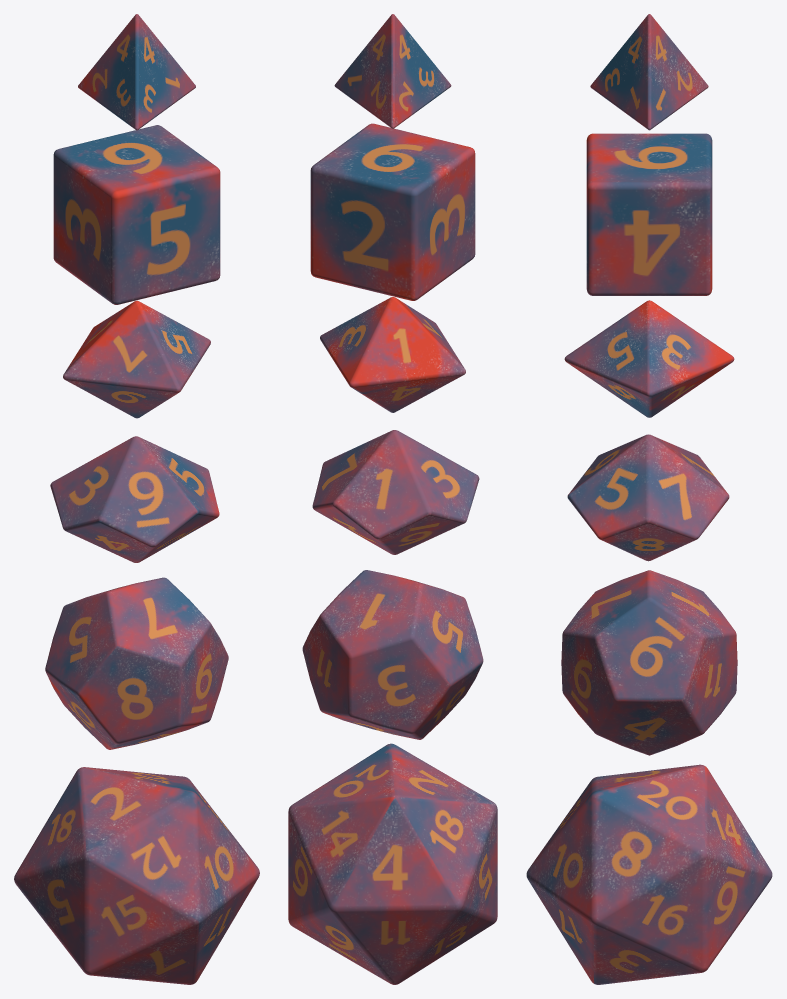
3 views of the same model, side by side, from view 1: azimuth 30°, elevation 25°; view 2: azimuth 150°, elevation 25°; view 3: azimuth 270°, elevation 25° (orthographic).
Parts seen in each view (by area): view 1: d20_geo, d6_geo, d12_geo, d10_geo, d8_geo, d4_geo; view 2: d20_geo, d6_geo, d12_geo, d10_geo, d8_geo, d4_geo; view 3: d20_geo, d12_geo, d6_geo, d10_geo, d8_geo, d4_geo.
Boxes of the visible parts, x1,y1,x2,y2 form: d20_geo: [14, 767, 259, 984]; d6_geo: [53, 125, 220, 304]; d12_geo: [45, 577, 228, 749]; d10_geo: [50, 436, 219, 562]; d8_geo: [63, 300, 210, 418]; d4_geo: [78, 14, 195, 130]; d20_geo: [288, 743, 497, 984]; d6_geo: [310, 123, 475, 300]; d12_geo: [302, 570, 483, 739]; d10_geo: [312, 430, 479, 554]; d8_geo: [320, 297, 465, 412]; d4_geo: [334, 14, 451, 128]; d20_geo: [526, 764, 772, 984]; d12_geo: [561, 570, 737, 755]; d6_geo: [586, 133, 712, 295]; d10_geo: [567, 434, 729, 561]; d8_geo: [564, 300, 734, 417]; d4_geo: [590, 14, 708, 130].
Size of the model in its own units: 0.0354 by 0.1684 by 0.0393.
6 materials, 6 textured.
